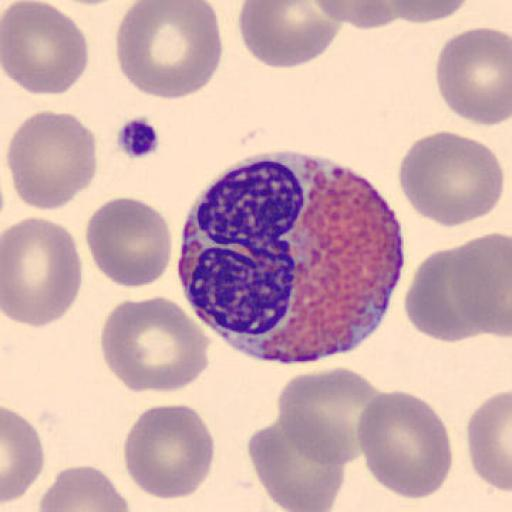Platelet: (113, 113, 164, 162)
RBC: (275, 364, 385, 468), (98, 295, 211, 396), (356, 388, 454, 502), (114, 0, 223, 102), (396, 129, 504, 229), (6, 108, 98, 212), (402, 242, 496, 343), (122, 402, 216, 501), (2, 214, 83, 328), (247, 418, 345, 511), (0, 0, 90, 97), (84, 195, 173, 290), (435, 24, 512, 128), (237, 0, 345, 71), (449, 231, 512, 340), (466, 388, 512, 496), (38, 464, 132, 512), (1, 406, 45, 506), (312, 0, 402, 31), (386, 0, 473, 24)
WBC: (172, 155, 403, 365)
